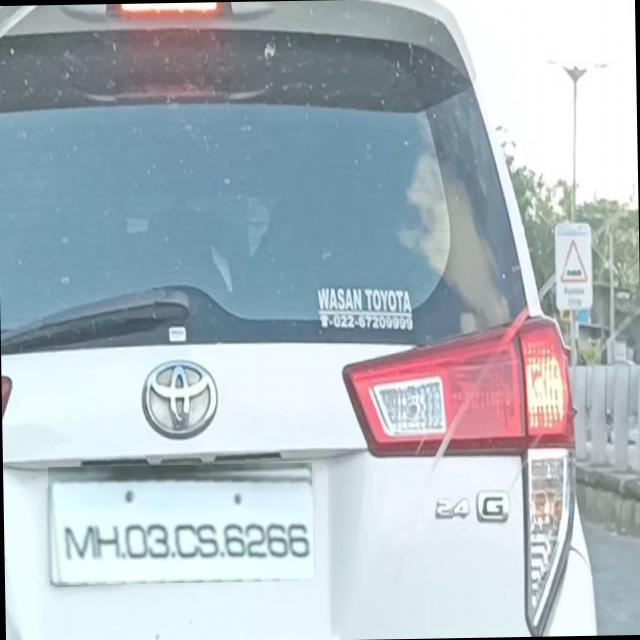Plate: (49, 463, 315, 586)
